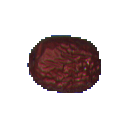gd: (7, 15, 128, 108)
